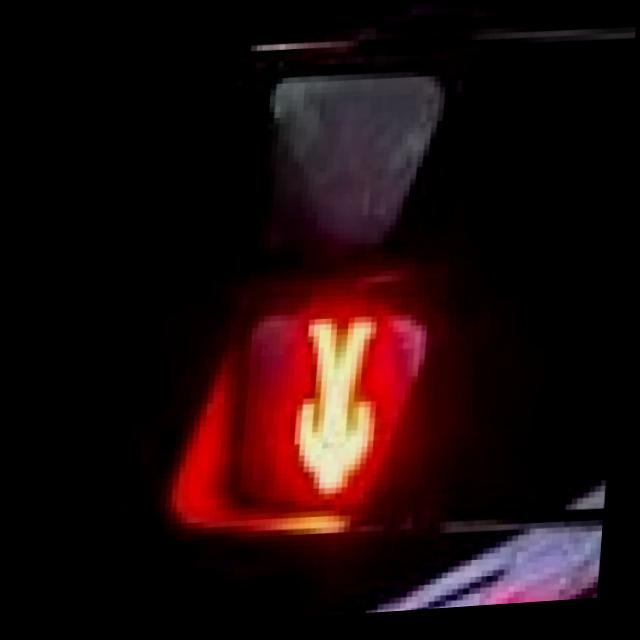red_light: (260, 306, 410, 525)
